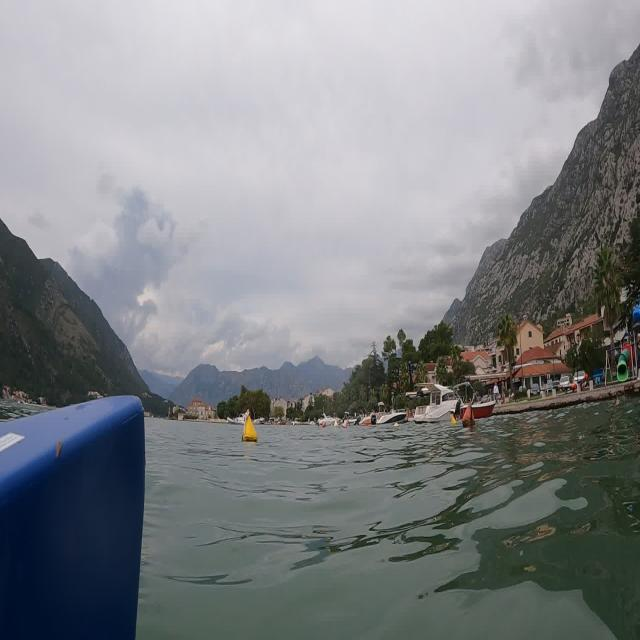boat: (406, 371, 506, 427)
buoy: (456, 395, 481, 436), (238, 406, 260, 451)
